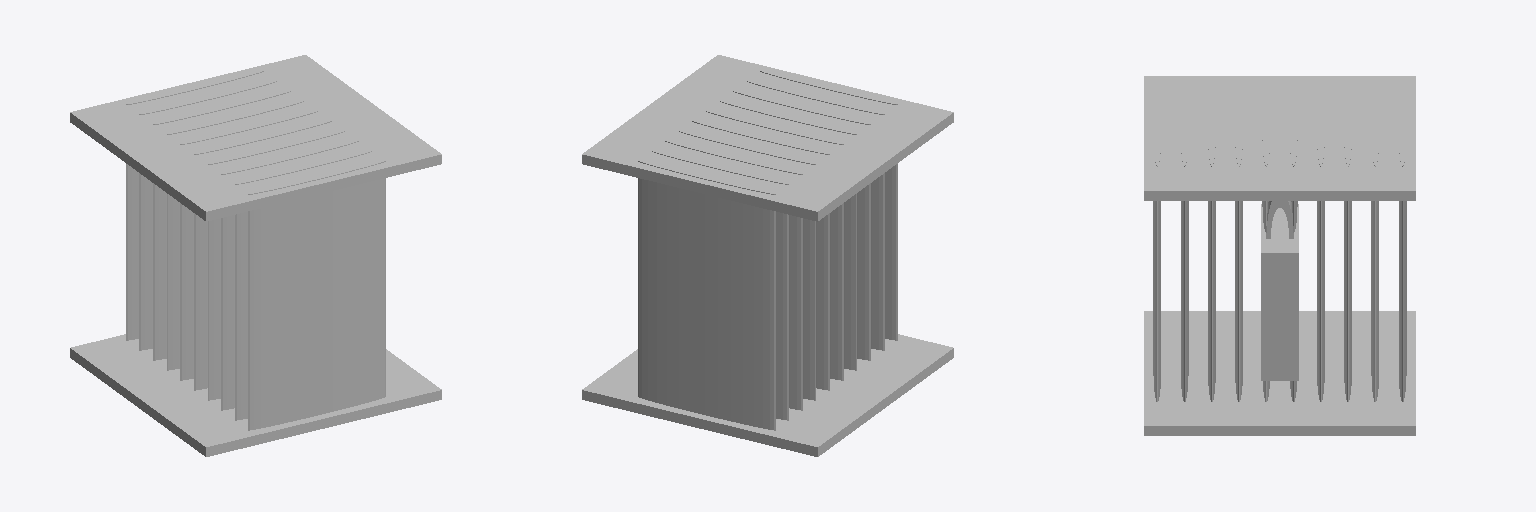
File: keyDoor.obj
The picture shows the model from 3 angles: view 1: azimuth 30°, elevation 25°; view 2: azimuth 150°, elevation 25°; view 3: azimuth 270°, elevation 25°; orthographic projection.
Visible parts, largest first — view 1: 立方体_立方体.005; view 2: 立方体_立方体.005; view 3: 立方体_立方体.005.
Boxes of the visible parts, x1=… form: 立方体_立方体.005: x1=70, y1=55, x2=441, y2=456; 立方体_立方体.005: x1=582, y1=55, x2=953, y2=456; 立方体_立方体.005: x1=1144, y1=76, x2=1415, y2=435.
Bounding box in the file's own units: 2 × 2 × 2.